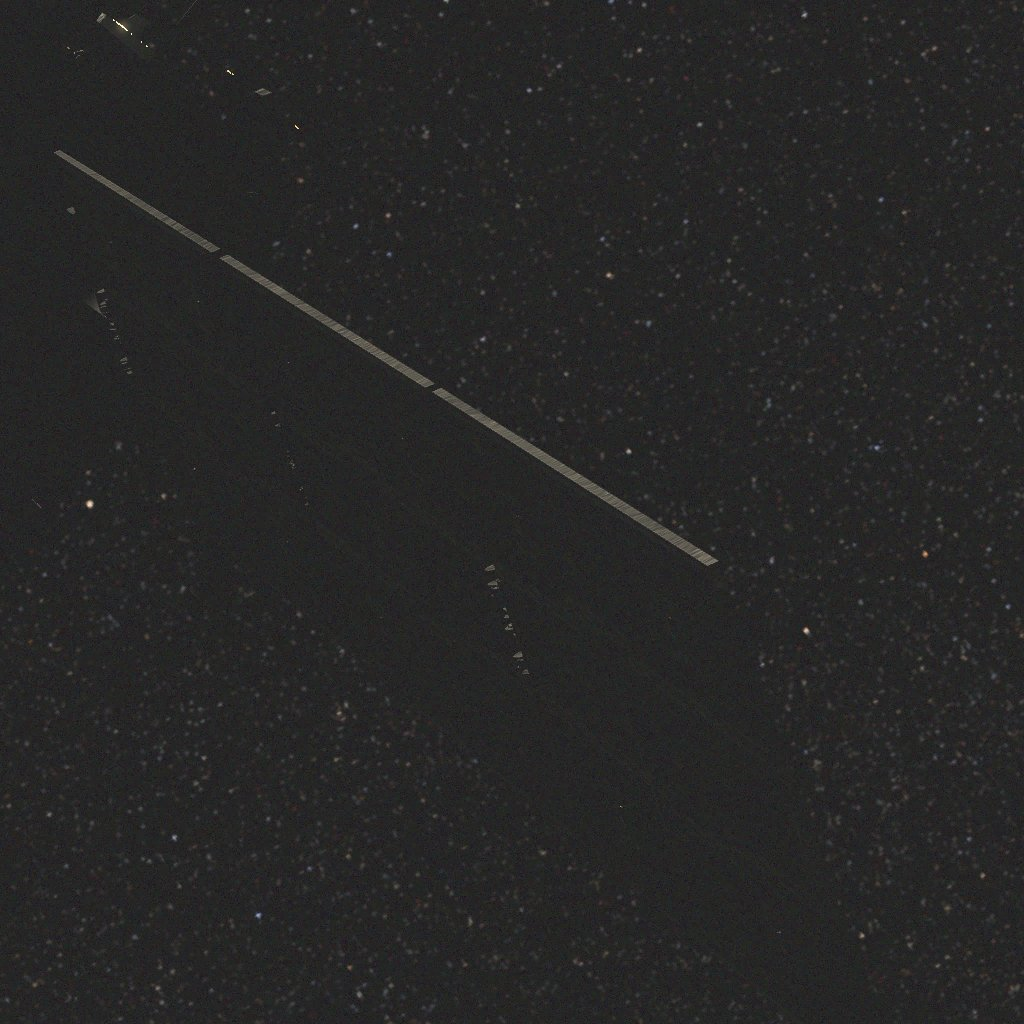smart_1: (0, 0, 879, 1024)
